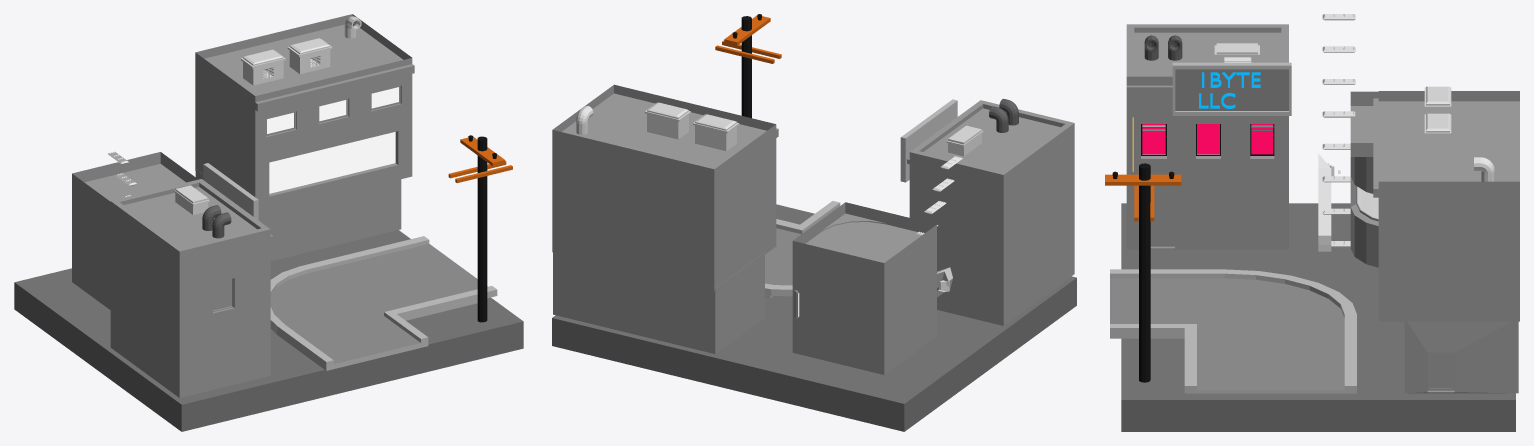
The model's file is Final Street 3js.glb.
The picture shows the model from 3 angles, left to right: view 1: azimuth 30°, elevation 25°; view 2: azimuth 150°, elevation 25°; view 3: azimuth 270°, elevation 25°; orthographic projection. The views are drawn at different scales.
Visible parts, largest first — view 1: Cube.007, Cube, Cube.005, Cube.006, Cube.001, Cube.002, Cube.003, Cylinder, Cube.013, Cube.012, Cube.015, Cube.014; view 2: Cube.007, Cube, Cube.002, Cube.006, Cube.003, Cube.001, Cube.005, Cube.015, Cube.012, Cube.013, Cylinder, Cube.014; view 3: Cube, Cube.007, Cube.005, Cube.006, Cube.001, Cube.003, Cube.015, Cube.002, Cylinder, Cube.008, Plane.001, Cube.013 (+5 smaller).
Part boxes in pixels (bbox=[...]): Cube.007: bbox=[195, 14, 414, 213]; Cube: bbox=[14, 230, 523, 431]; Cube.005: bbox=[270, 236, 497, 370]; Cube.006: bbox=[110, 179, 273, 330]; Cube.001: bbox=[110, 281, 270, 397]; Cube.002: bbox=[72, 152, 198, 309]; Cube.003: bbox=[195, 169, 401, 260]; Cylinder: bbox=[477, 136, 487, 322]; Cube.013: bbox=[287, 38, 332, 74]; Cube.012: bbox=[241, 49, 285, 85]; Cube.015: bbox=[203, 163, 258, 220]; Cube.014: bbox=[174, 185, 209, 214]; Cube.007: bbox=[552, 84, 778, 291]; Cube: bbox=[552, 204, 1076, 431]; Cube.002: bbox=[792, 202, 936, 374]; Cube.006: bbox=[907, 100, 1074, 256]; Cube.003: bbox=[553, 252, 764, 353]; Cube.001: bbox=[937, 205, 1074, 325]; Cube.005: bbox=[765, 201, 840, 298]; Cube.015: bbox=[900, 99, 957, 182]; Cube.012: bbox=[693, 114, 739, 151]; Cube.013: bbox=[644, 102, 690, 139]; Cylinder: bbox=[741, 16, 751, 118]; Cube.014: bbox=[946, 125, 983, 156]; Cube: bbox=[1121, 203, 1515, 431]; Cube.007: bbox=[1373, 91, 1519, 321]; Cube.005: bbox=[1110, 269, 1356, 393]; Cube.006: bbox=[1126, 24, 1288, 170]; Cube.001: bbox=[1126, 170, 1288, 249]; Cube.003: bbox=[1404, 321, 1518, 393]; Cube.015: bbox=[1172, 62, 1291, 115]; Cube.002: bbox=[1350, 91, 1378, 267]; Cylinder: bbox=[1139, 163, 1150, 382]; Cube.008: bbox=[1322, 14, 1355, 247]; Plane.001: bbox=[1318, 153, 1334, 251]; Cube.013: bbox=[1424, 113, 1451, 155].
Size of what is drawn, in the model's own units: 17.95 by 11.27 by 15.97.
